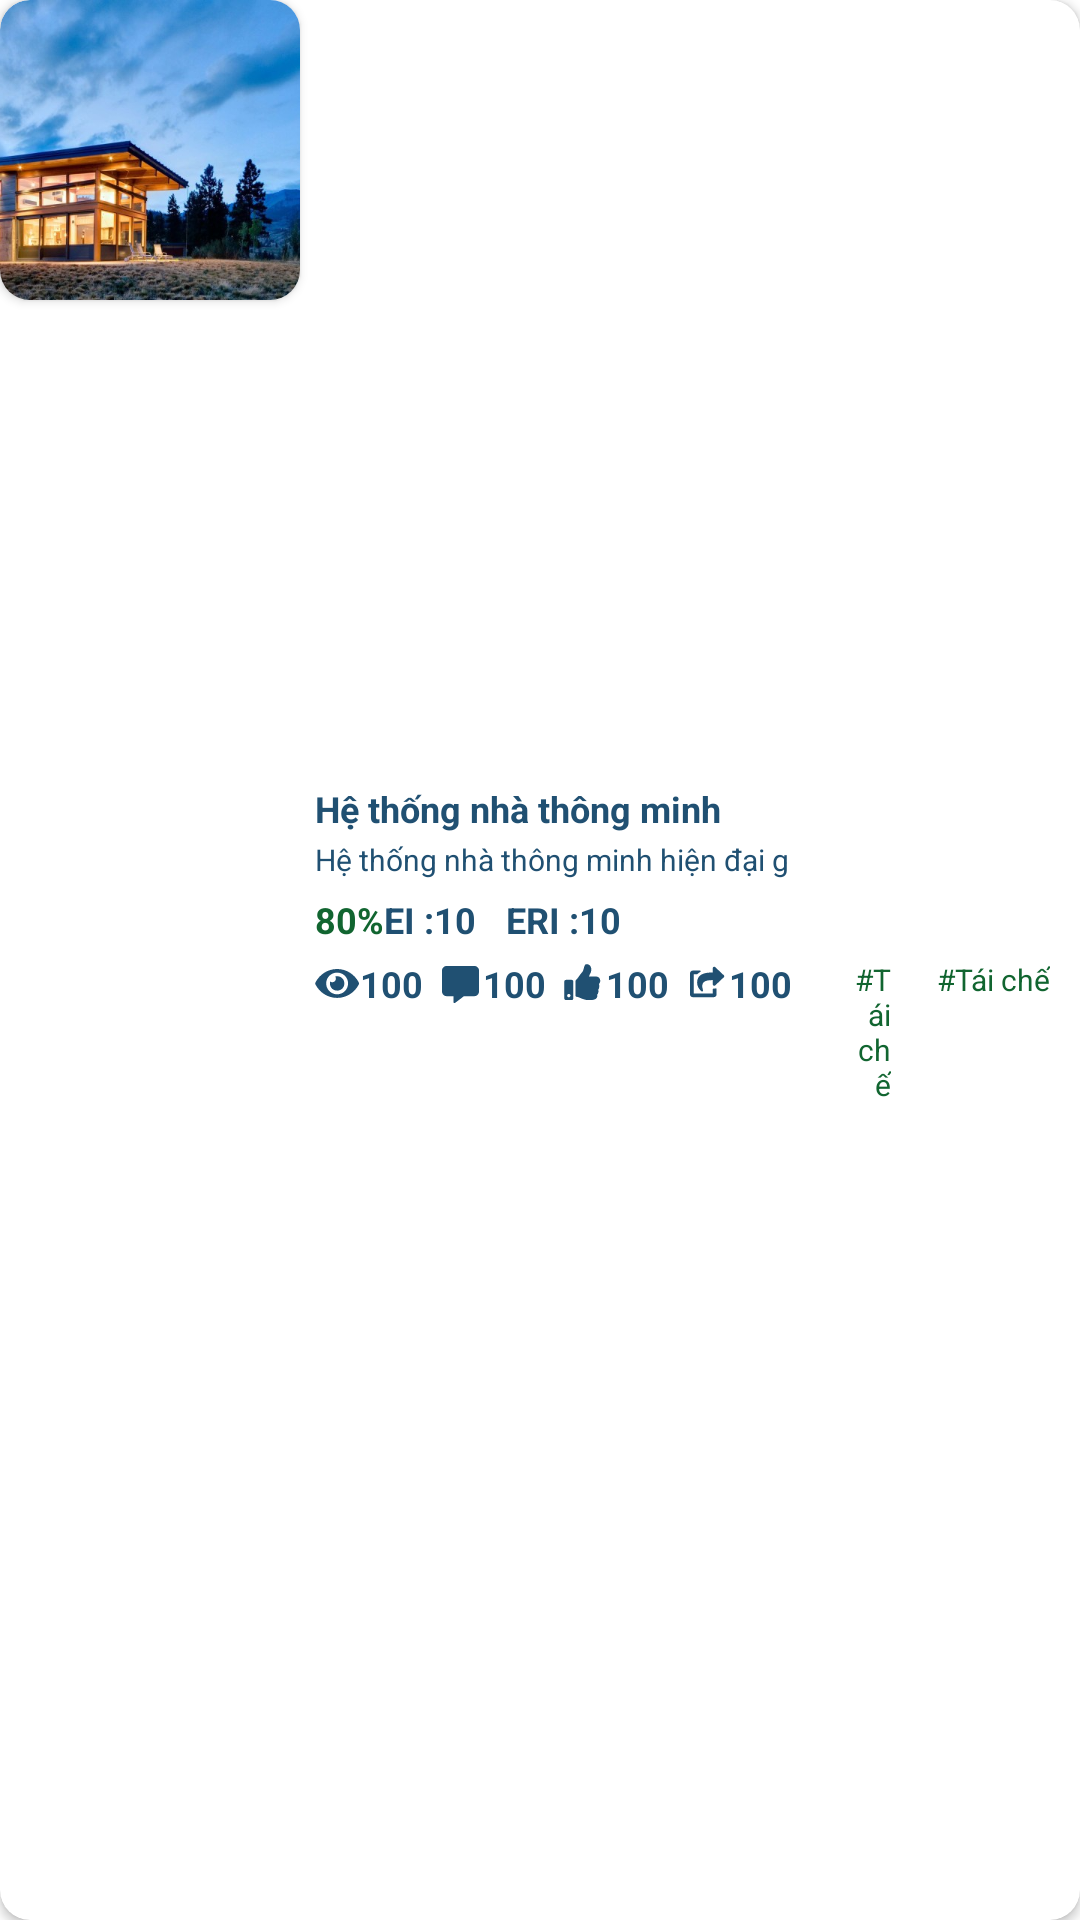

Named icons in this screenshot (1080 x 1920) and their centers, (x,y):
eye: (337,983)
house: (150,150)
like: (582,982)
message: (460,984)
share: (707,982)
